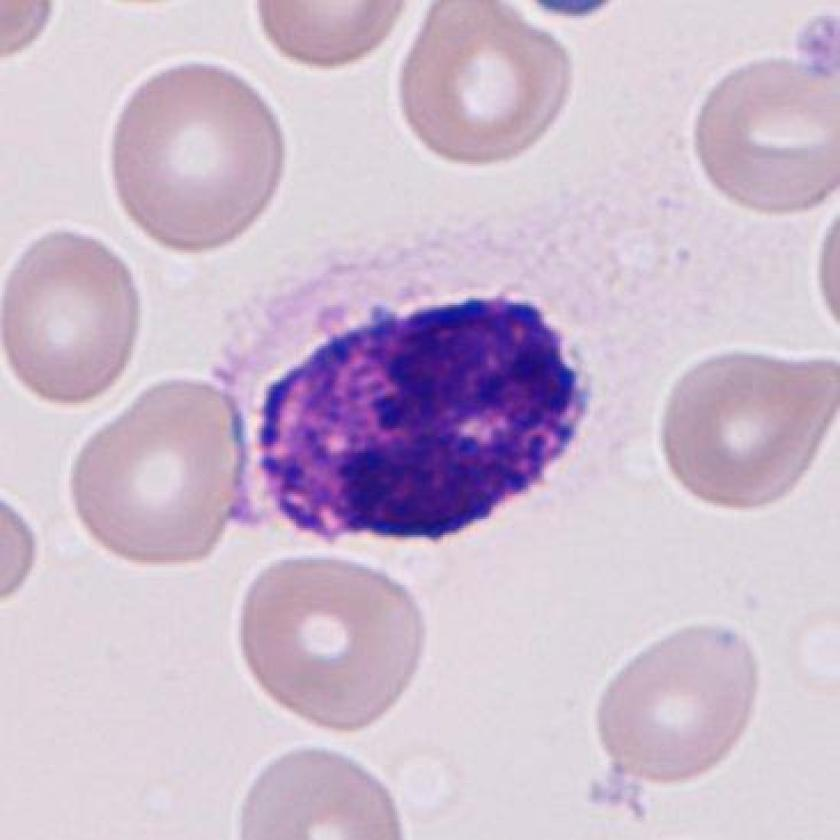basophil: (220, 231, 663, 551)
